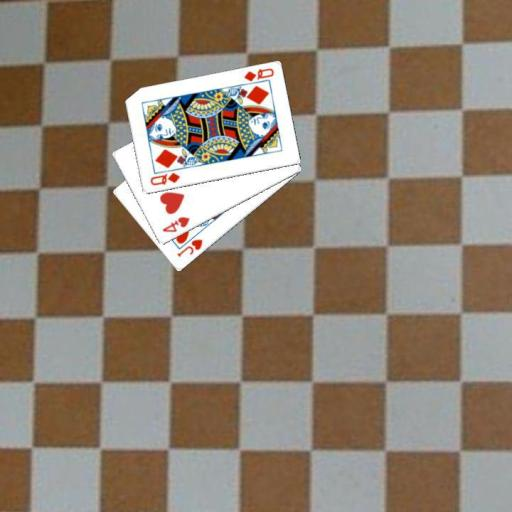4H: (159, 214, 191, 234)
JH: (174, 236, 204, 259)
QD: (241, 66, 276, 84), (148, 169, 182, 187)
